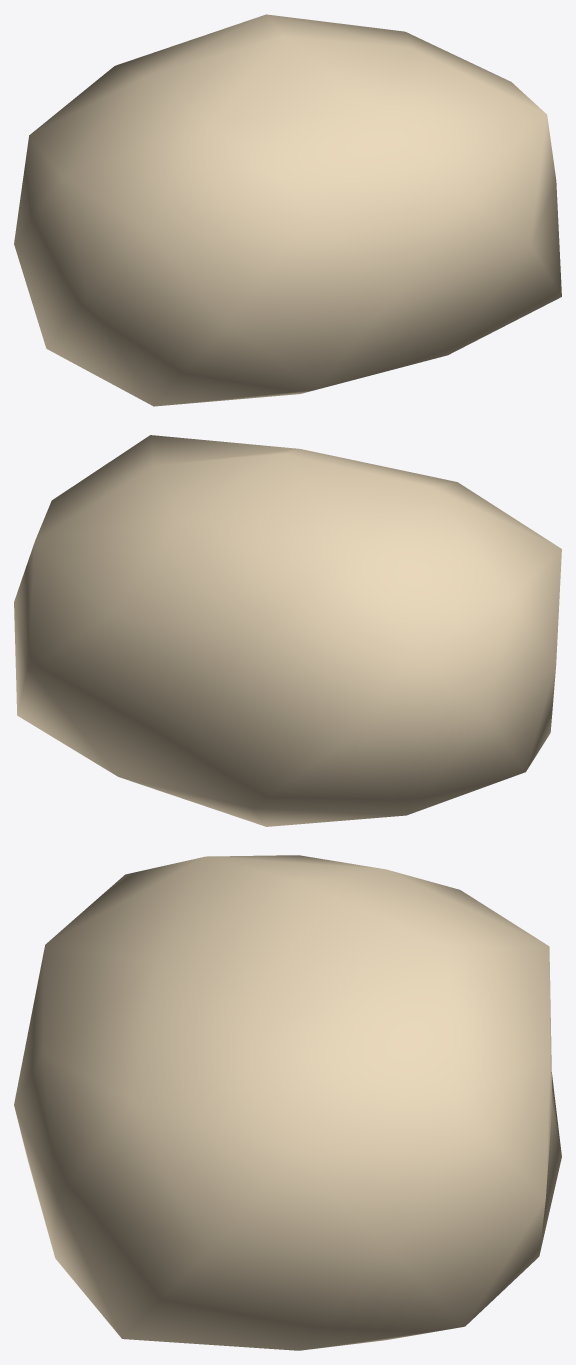
Rendered from RUBBEL_KIESEL_6.glb.
3 renders of one model, top to bottom at view 1: azimuth 30°, elevation 25°; view 2: azimuth 150°, elevation 25°; view 3: azimuth 270°, elevation 25°, orthographic. The views are drawn at different scales.
Parts seen in each view (by area): view 1: RUBBEL_KIESEL_6; view 2: RUBBEL_KIESEL_6; view 3: RUBBEL_KIESEL_6.
Boxes of the visible parts, <box> form: RUBBEL_KIESEL_6: <box>14,14,561,406</box>; RUBBEL_KIESEL_6: <box>14,435,561,826</box>; RUBBEL_KIESEL_6: <box>14,855,561,1350</box>.
Size of the model in its own units: 0.6959 by 0.4896 by 0.551.
